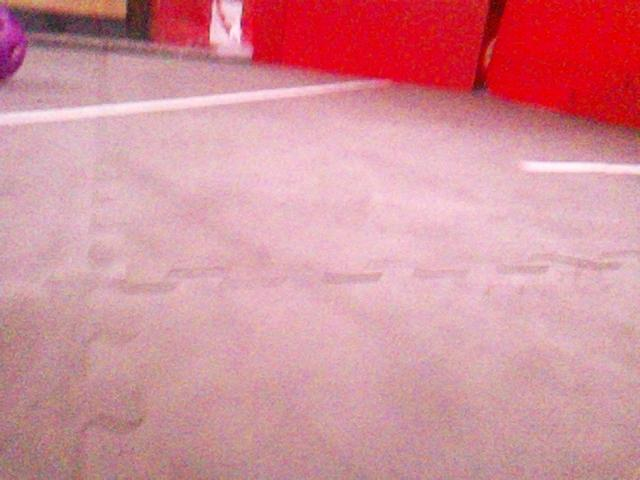Purple: (0, 5, 28, 82)
